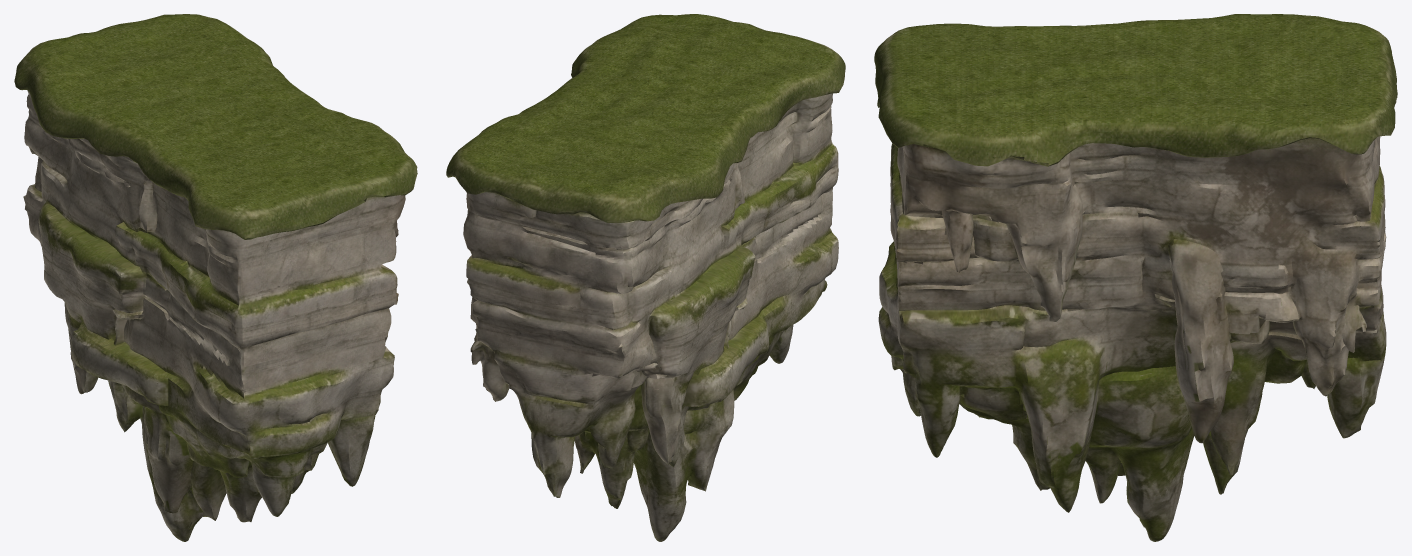
The model's file is cloudreach_cliff_shelf_edge.glb.
The picture shows the model from 3 angles, left to right: view 1: azimuth 30°, elevation 25°; view 2: azimuth 150°, elevation 25°; view 3: azimuth 270°, elevation 25°; orthographic projection. The views are drawn at different scales.
Parts seen in each view (by area): view 1: Mesh_0; view 2: Mesh_0; view 3: Mesh_0.
Boxes of the visible parts, x1,y1,x2,y2 form: Mesh_0: [14, 14, 417, 541]; Mesh_0: [446, 14, 845, 541]; Mesh_0: [874, 14, 1397, 541].
Bounding box in the file's own units: 17.95 × 30.96 × 30.
Materials: 1 (1 with a texture image).
